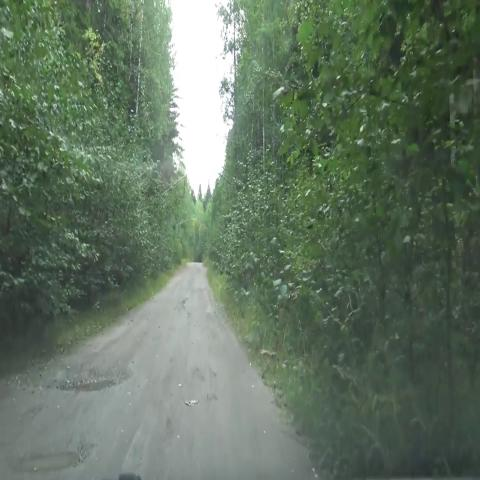pothole: (21, 424, 102, 480), (56, 354, 134, 395)
